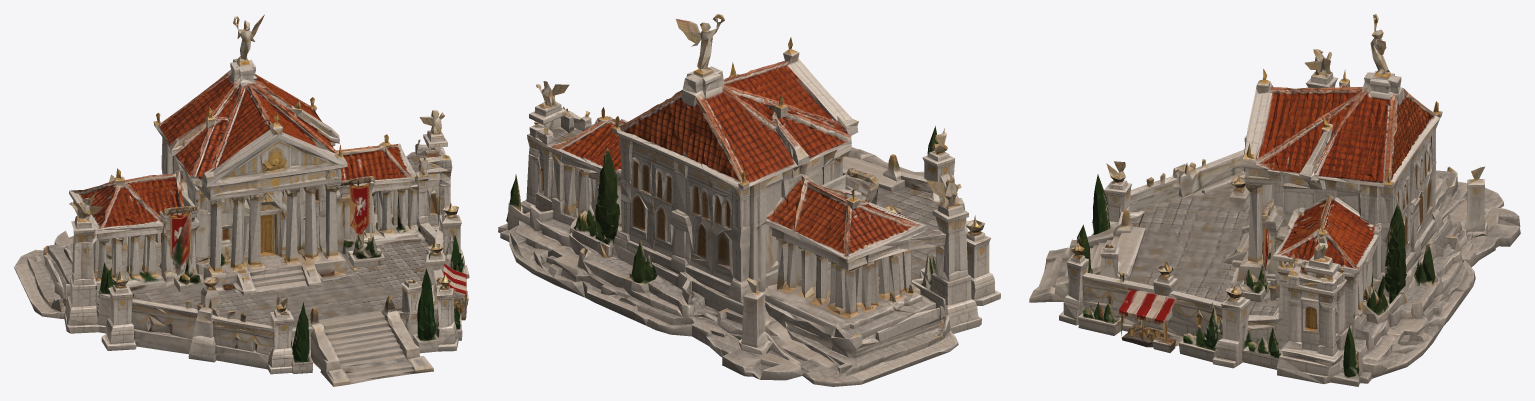
The model's file is Meshy_AI_Greek_Town_Hall_15k_20261030_texture_remesh_tri.fbx.
3 renders of one model, left to right at view 1: azimuth 30°, elevation 25°; view 2: azimuth 150°, elevation 25°; view 3: azimuth 270°, elevation 25°, orthographic. The views are drawn at different scales.
Visible parts, largest first — view 1: output_unwrapped; view 2: output_unwrapped; view 3: output_unwrapped.
Boxes of the visible parts, x1,y1,x2,y2 form: output_unwrapped: (14,14,469,386); output_unwrapped: (498,14,1000,386); output_unwrapped: (1029,14,1520,386).
Size of the model in its own units: 190 by 112 by 185.
Materials: 1 (1 with a texture image).
